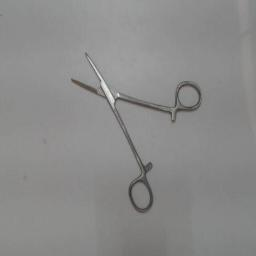Mayo Needle Holder: (66, 44, 204, 216)
